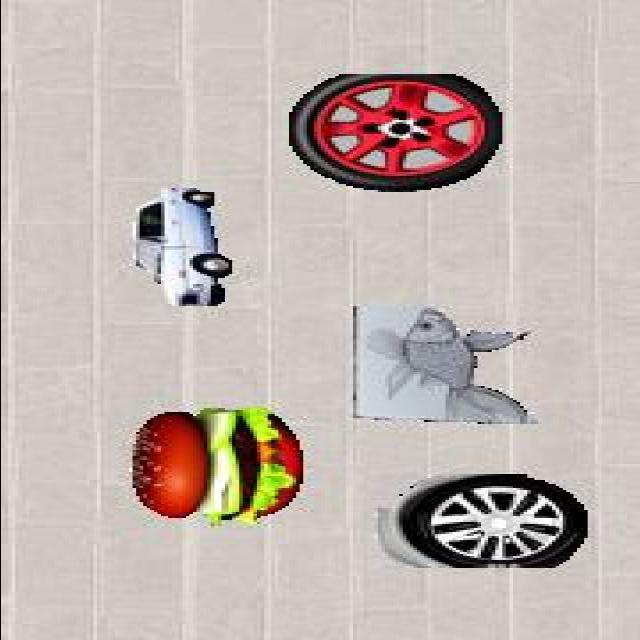Other Objects: (130, 406, 304, 526)
